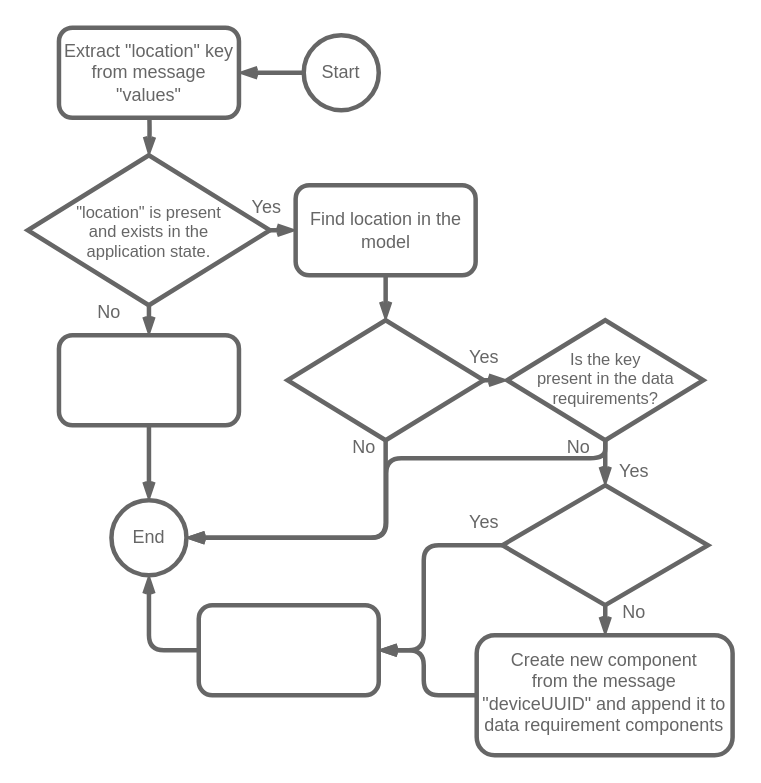
This 761x783 diagram has some shape labels left out. The box of each missing label's shape, as (x1, y1, x2, y2) in pixels:
Any data keys left to process?: (285, 317, 485, 442)
Is the "deviceUUID" registered in the componets?: (499, 482, 710, 607)
Message can't be processed as it it's origin can't be traced: (56, 332, 240, 427)
Update last_reading of the device to message's "timeStamp": (196, 602, 380, 697)
